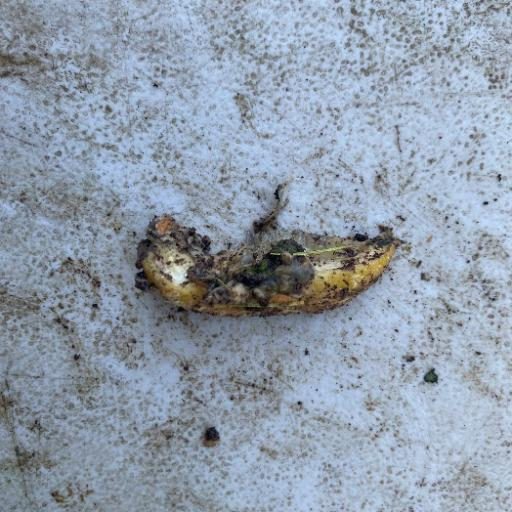Waste: (133, 180, 400, 318)
